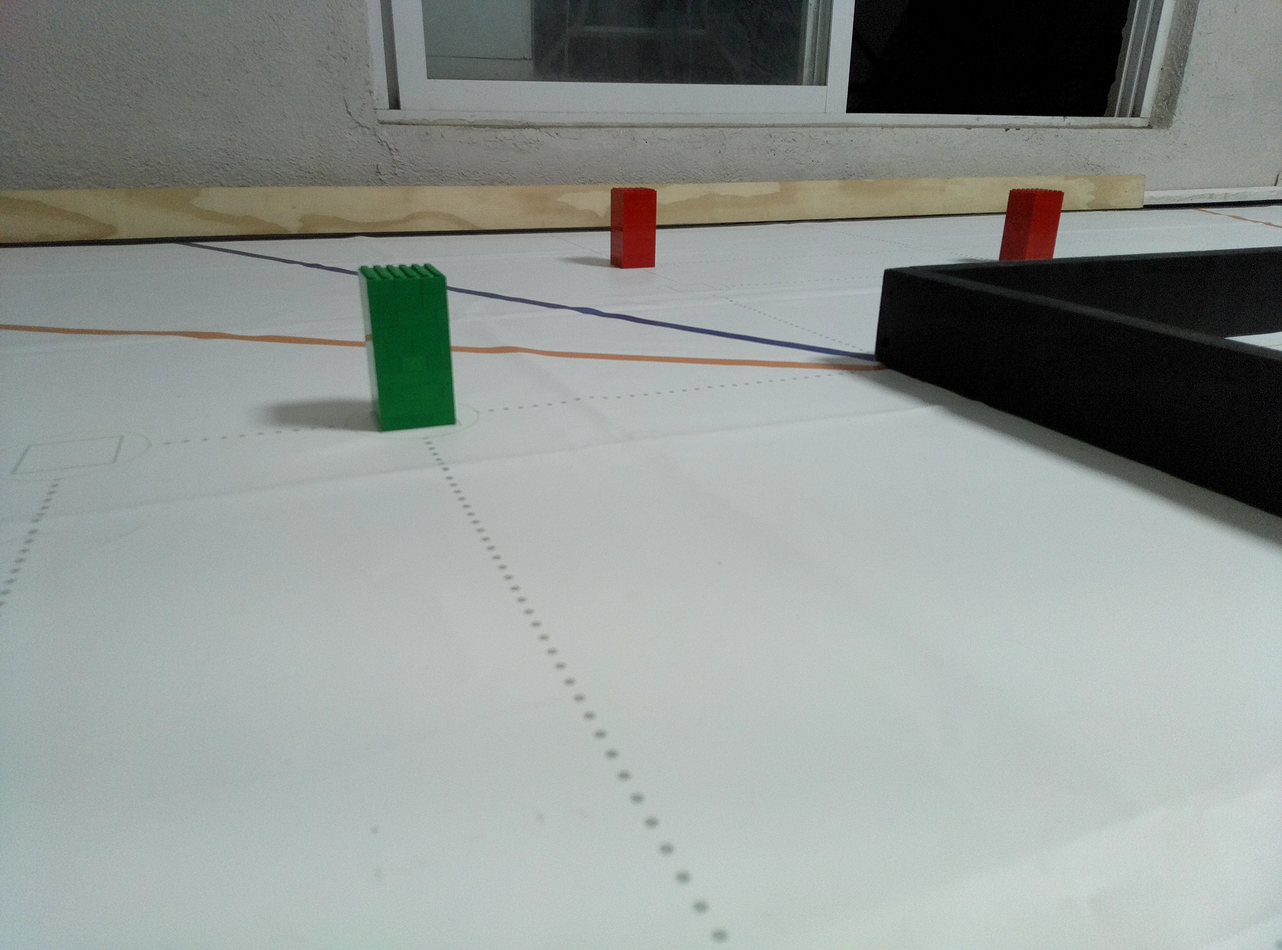greenbox: (357, 262, 458, 432)
redbox: (998, 188, 1064, 260), (610, 186, 657, 268)
